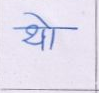e_matra: (23, 12, 51, 26)
